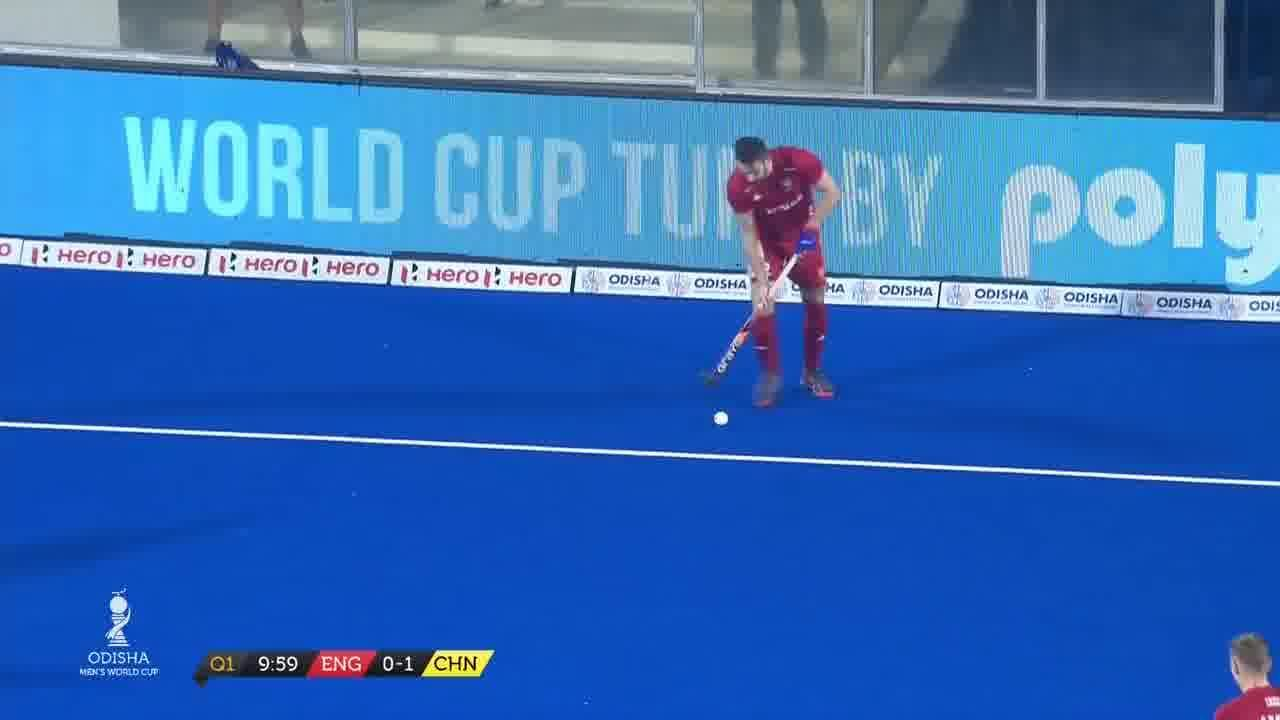ball: (711, 406, 732, 431)
